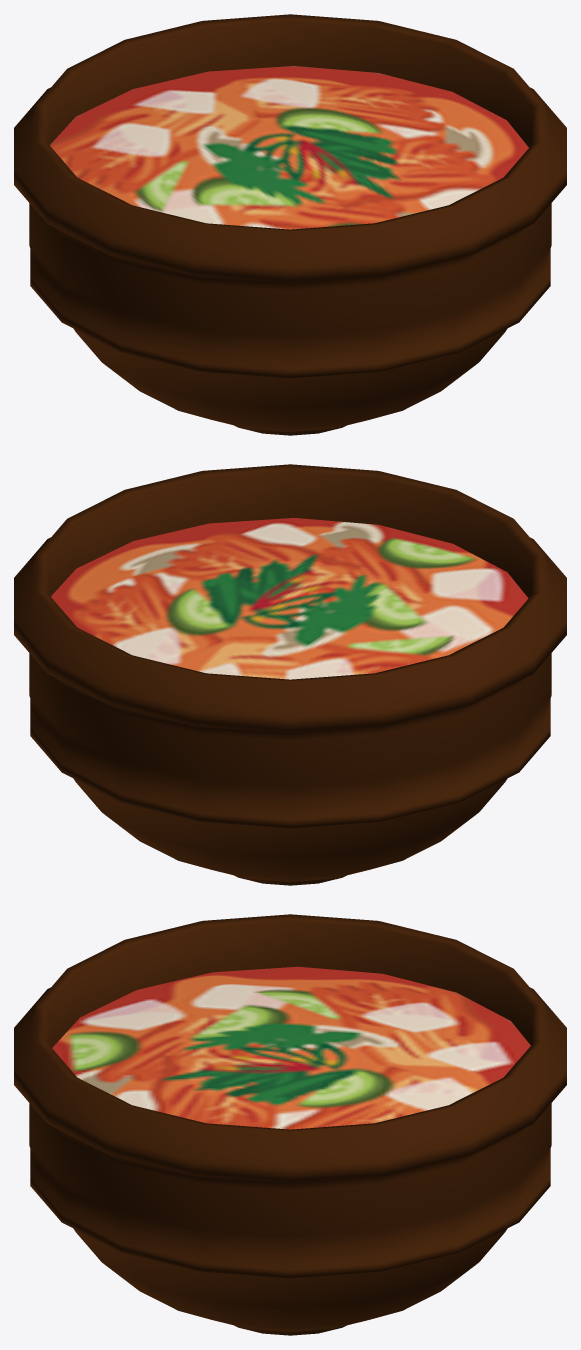
File: Stew.fbx
3 renders of one model, top to bottom at view 1: azimuth 30°, elevation 25°; view 2: azimuth 150°, elevation 25°; view 3: azimuth 270°, elevation 25°, orthographic.
Parts seen in each view (by area): view 1: Stew; view 2: Stew; view 3: Stew.
Boxes of the visible parts, x1,y1,x2,y2 form: Stew: [14, 14, 566, 435]; Stew: [14, 464, 566, 885]; Stew: [14, 914, 566, 1335].
Size of the model in its own units: 6.89 by 3.76 by 6.78.
1 material, 1 textured.
